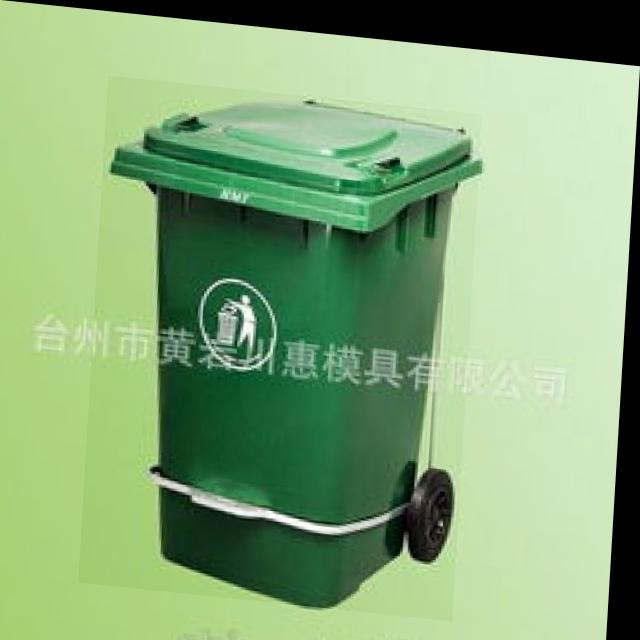garbage_bin: (86, 73, 484, 611)
